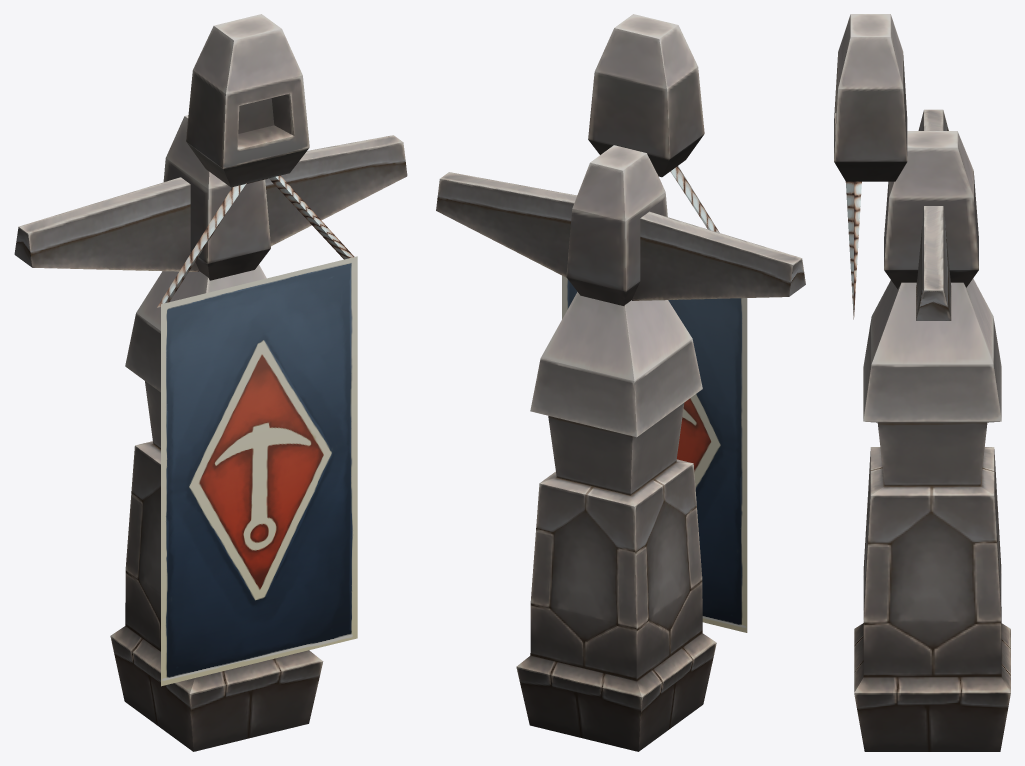
File: Dwarf_Village_Props_08.FBX
3 views of the same model, side by side, from view 1: azimuth 30°, elevation 25°; view 2: azimuth 150°, elevation 25°; view 3: azimuth 270°, elevation 25° (orthographic). The views are drawn at different scales.
Visible parts, largest first — view 1: Dwarf_Village_Props_08; view 2: Dwarf_Village_Props_08; view 3: Dwarf_Village_Props_08.
Boxes of the visible parts, x1,y1,x2,y2 form: Dwarf_Village_Props_08: [14, 14, 407, 751]; Dwarf_Village_Props_08: [436, 14, 805, 751]; Dwarf_Village_Props_08: [834, 14, 1010, 751].
Bounding box in the file's own units: 407 × 734 × 168.
